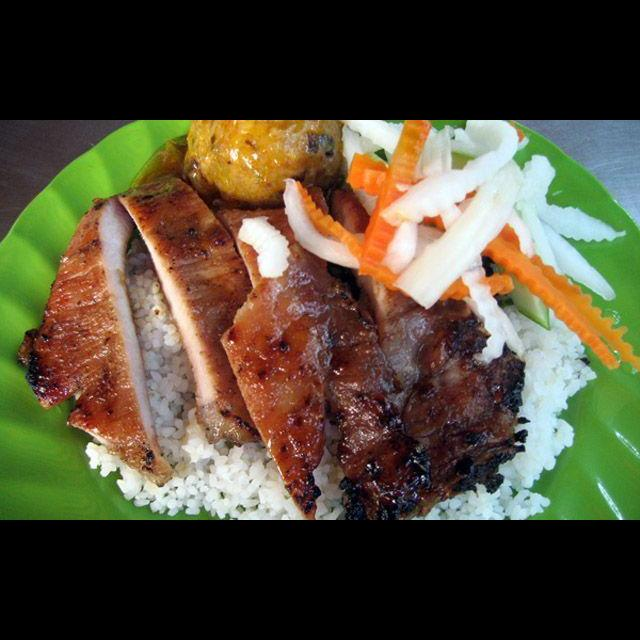com: (120, 234, 217, 471), (499, 297, 600, 520), (80, 432, 305, 520)
com suon: (17, 159, 618, 510)
dua chua: (279, 121, 559, 313), (475, 151, 640, 373)
suon: (210, 182, 436, 520), (14, 189, 176, 490), (116, 172, 282, 449), (363, 271, 534, 520)
